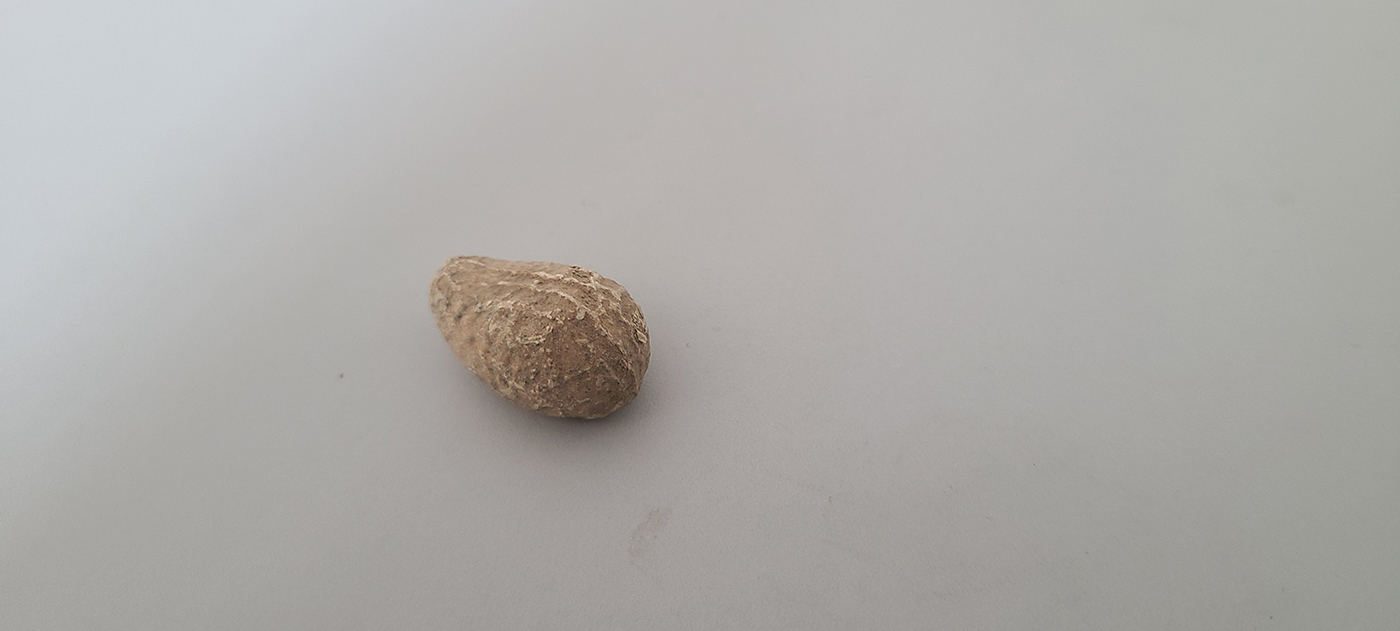h: (426, 250, 651, 424)
